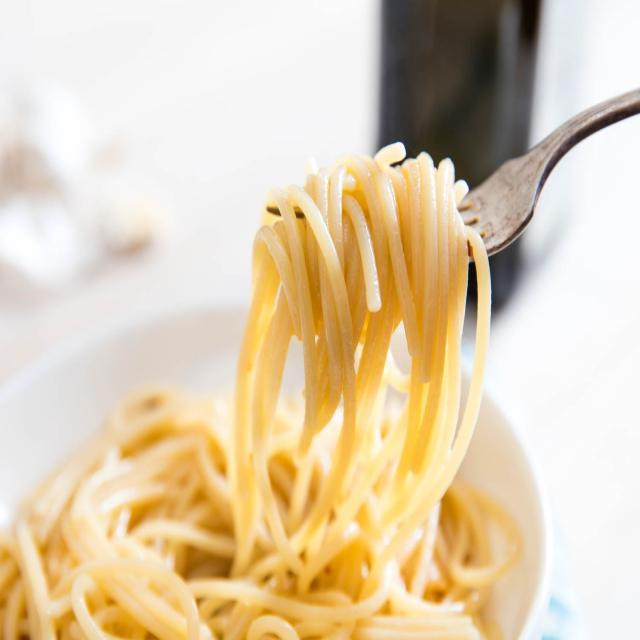Oil pasta: (22, 129, 507, 640)
